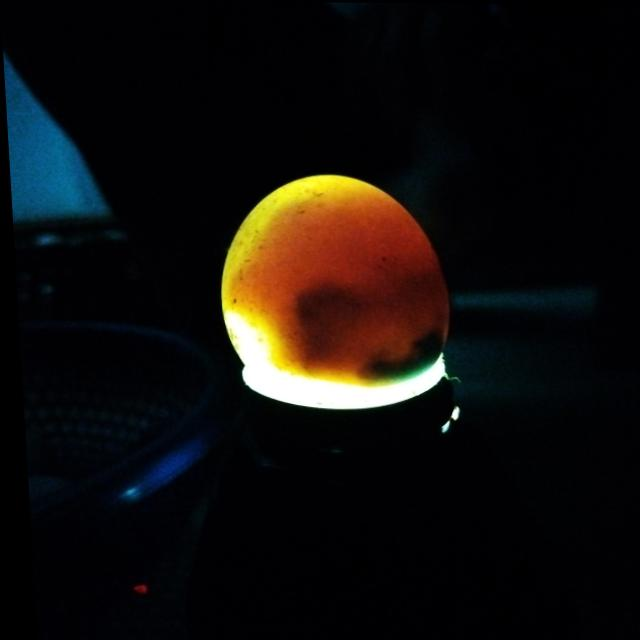Area Infectada: (290, 251, 444, 382)
